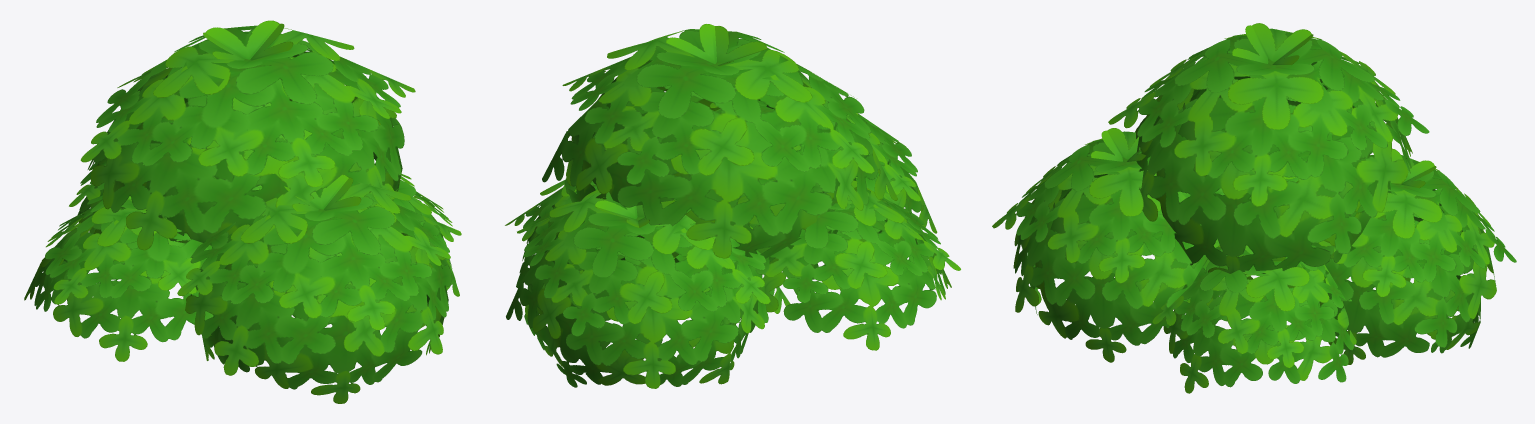
The model's file is Foliage_RoundNatural_FULL.fbx.
3 views of the same model, side by side, from view 1: azimuth 30°, elevation 25°; view 2: azimuth 150°, elevation 25°; view 3: azimuth 270°, elevation 25° (orthographic).
Visible parts, largest first — view 1: Foliage_RoundNatural_FULL; view 2: Foliage_RoundNatural_FULL; view 3: Foliage_RoundNatural_FULL.
Part boxes in pixels (x1,y1,x2,y2): Foliage_RoundNatural_FULL: (24,20,461,403); Foliage_RoundNatural_FULL: (505,24,960,388); Foliage_RoundNatural_FULL: (992,23,1516,393).
Bounding box in the file's own units: 795 × 531 × 851.
Materials: 1 (1 with a texture image).
